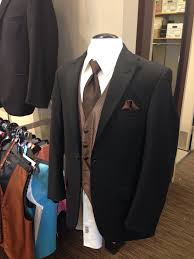F_M_suit jacket: (44, 37, 186, 253)
F_tie: (82, 59, 103, 116)
